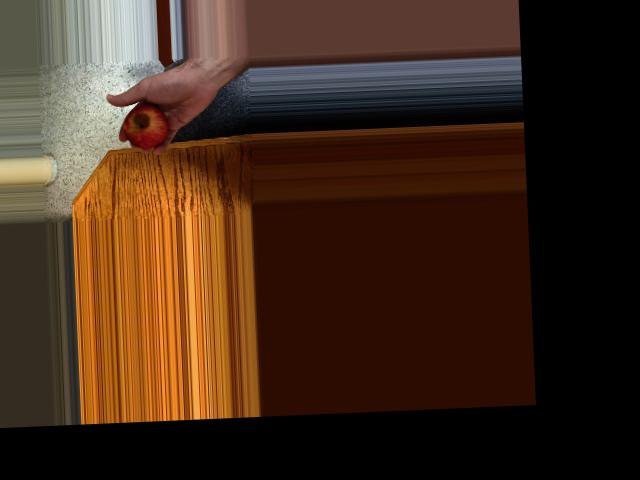apple: (116, 96, 187, 153)
